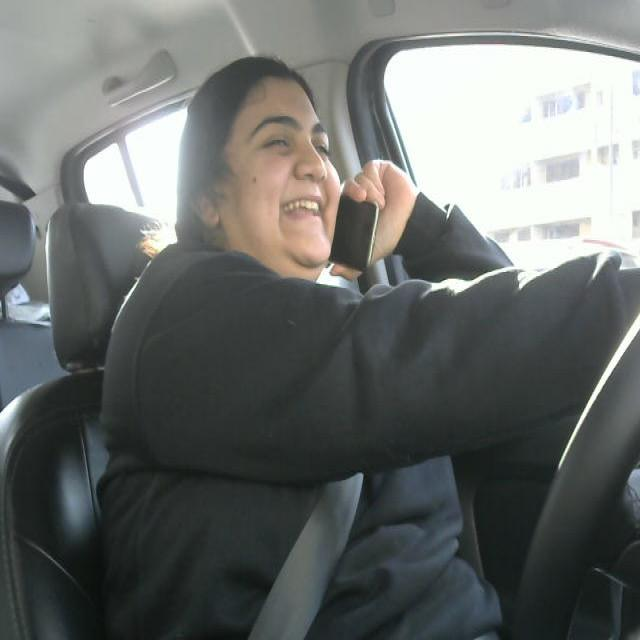mobile use: (328, 200, 393, 276)
